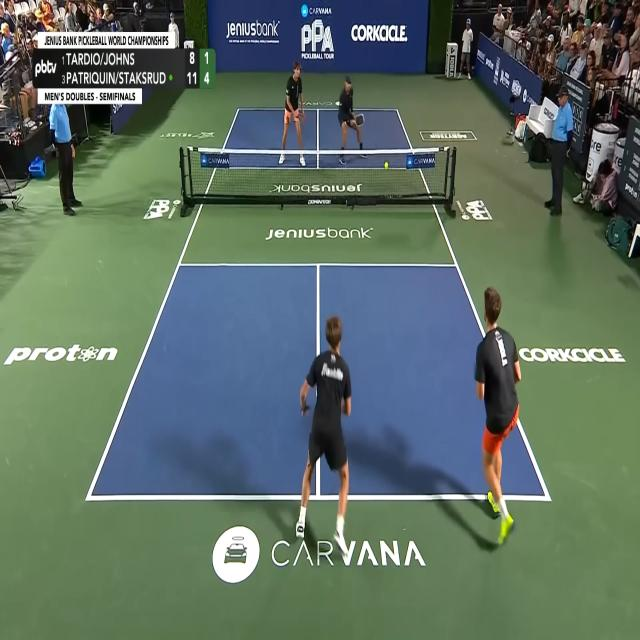ball: (384, 161, 389, 171)
